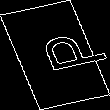P_W: (14, 30, 96, 80)
